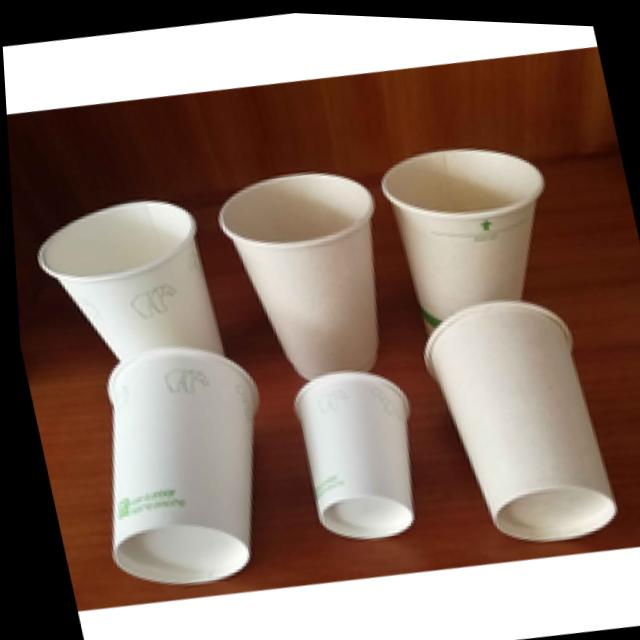paper_cups: (63, 333, 285, 595), (405, 279, 615, 550), (208, 159, 406, 392), (371, 126, 573, 352), (25, 185, 222, 376), (279, 356, 430, 547)
